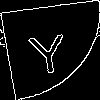Y: (25, 25, 71, 75)
